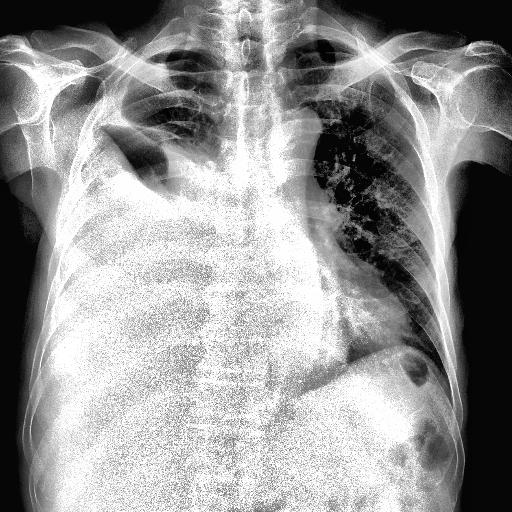0- Aortic enlargement: (265, 106, 324, 166)
10- Pleural effusion: (52, 50, 236, 396), (48, 54, 216, 357), (44, 126, 210, 386)
11- Pleural thickening: (96, 58, 142, 124), (158, 44, 192, 52)
13- Pulmonary fibrosis: (112, 112, 178, 148), (101, 117, 181, 140)
4- Consolidation: (160, 142, 212, 199)
7- Lung Opacity: (94, 126, 220, 202), (122, 129, 220, 193), (157, 138, 211, 206)
